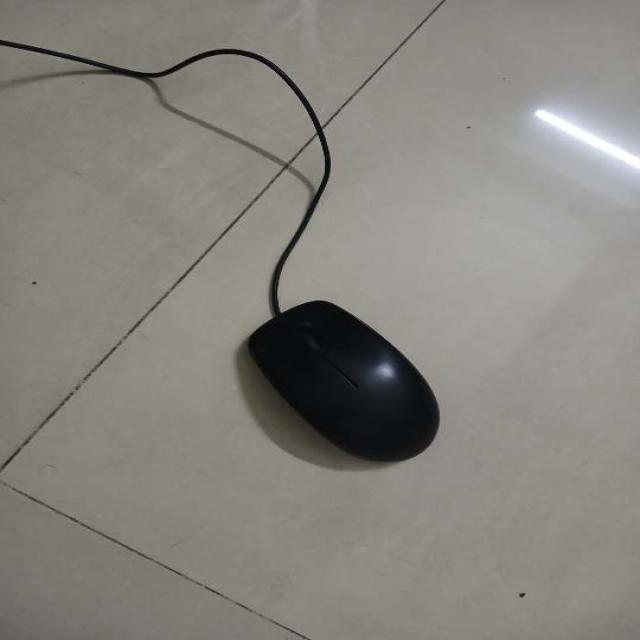mouse: (239, 296, 448, 470)
